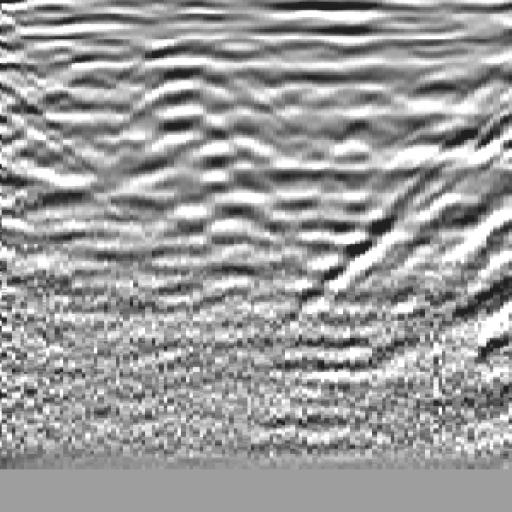metalic: (91, 32, 304, 267)
